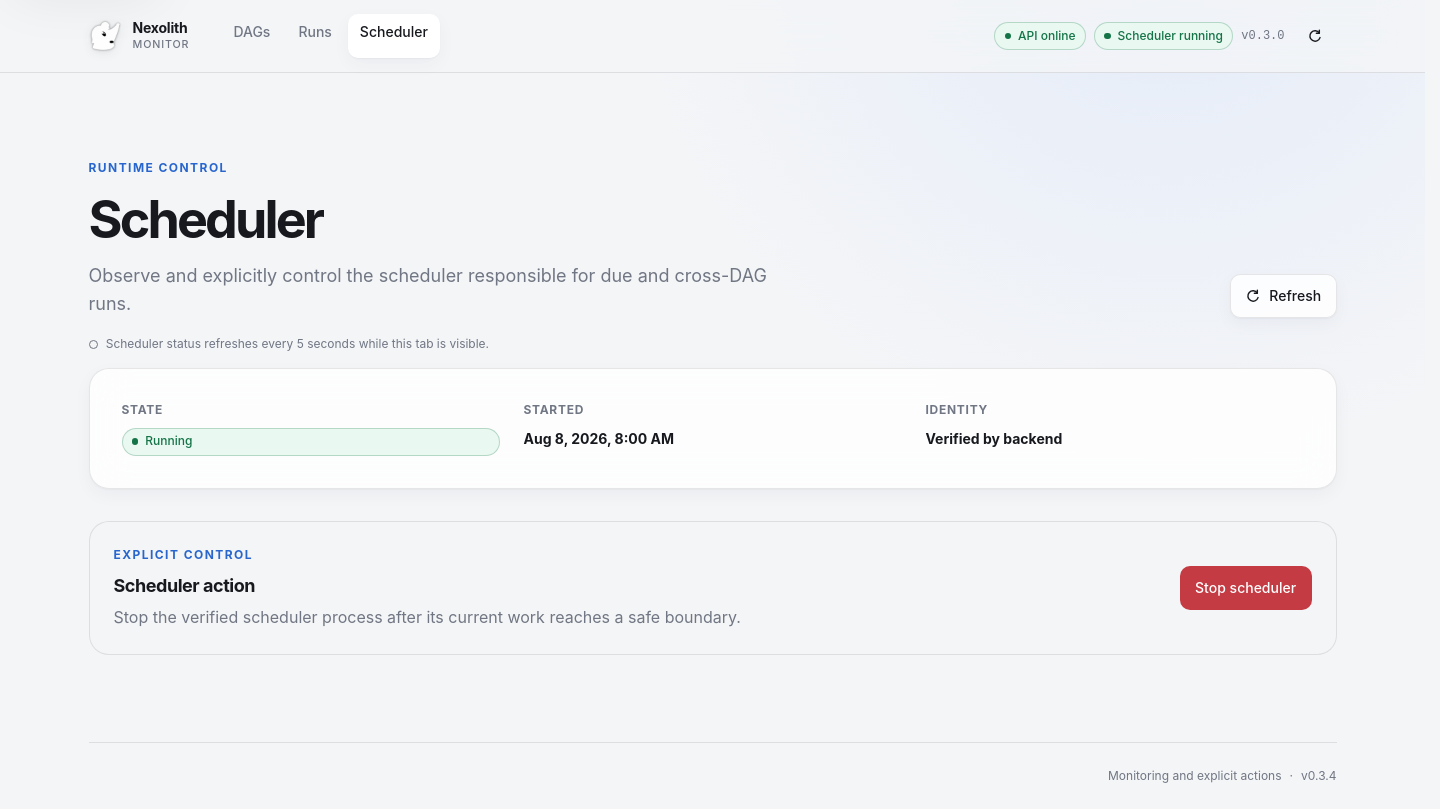
it: stops the scheduler only after confirmation and refreshes backend status
The image size is (1440, 809).
Step 1. Click the button "Stop scheduler" → point(1246, 588), box [1180,566,1312,610]
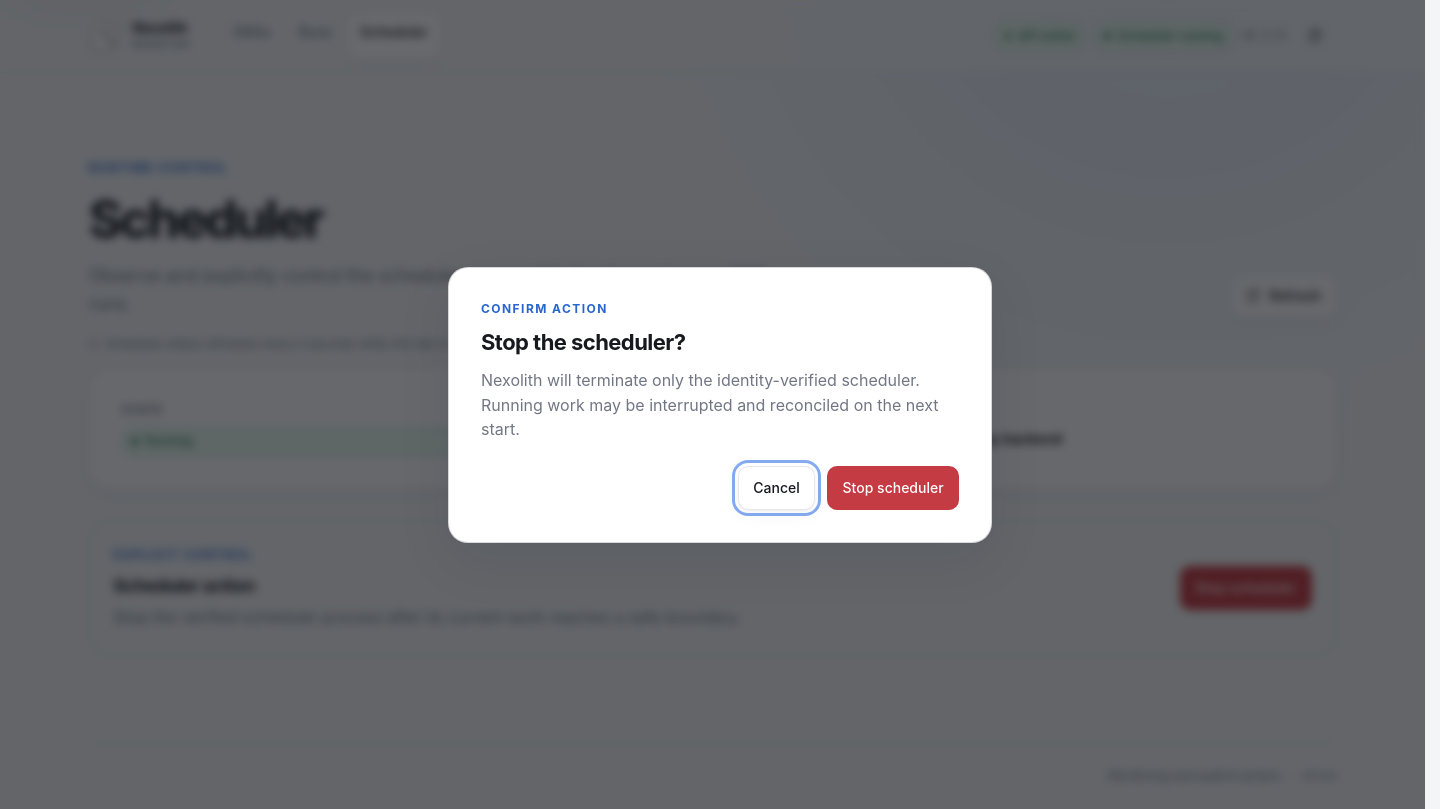
Step 2. Click the button "Cancel" → point(777, 488), box [738,466,815,510]
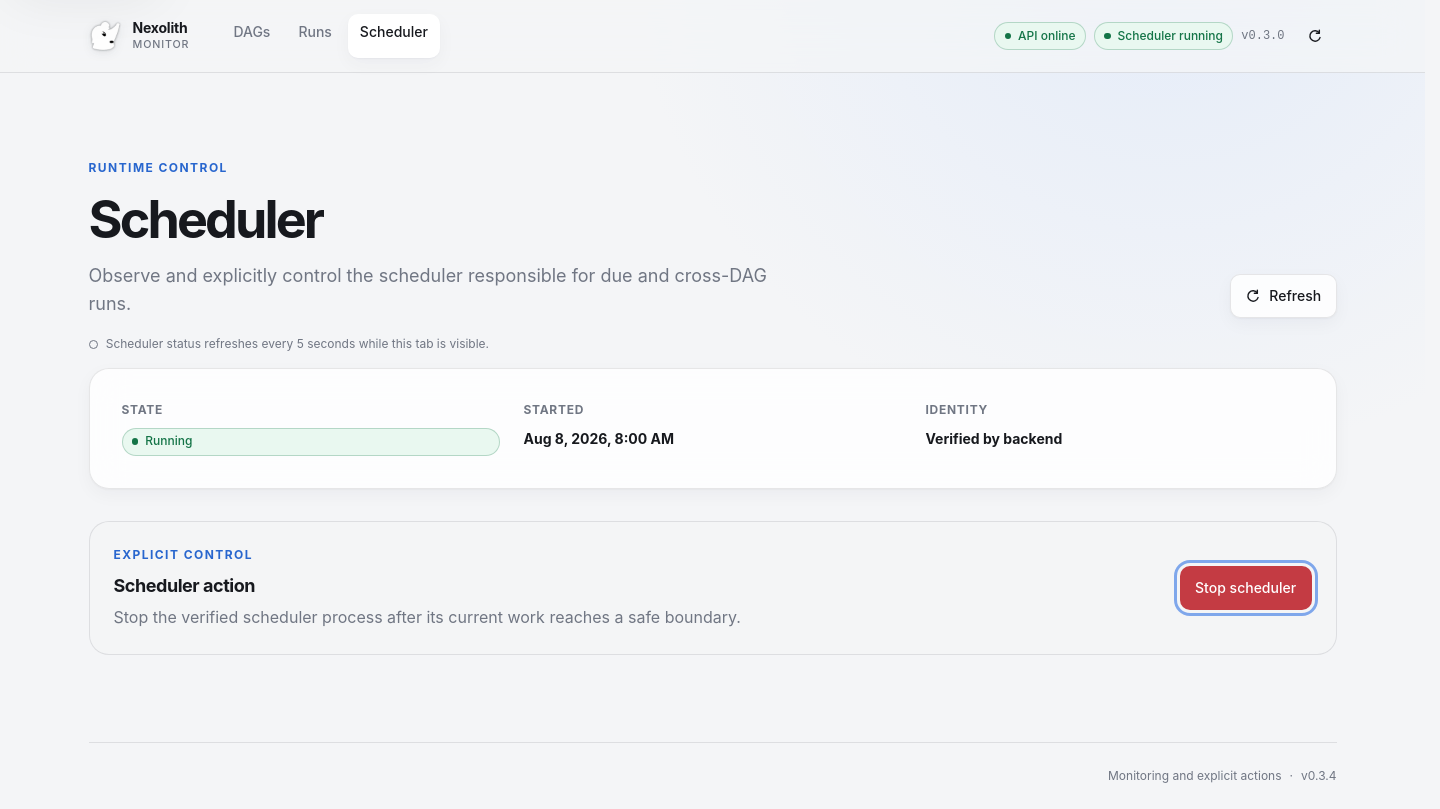
Step 3. Click the button "Stop scheduler" → point(1246, 588), box [1180,566,1312,610]
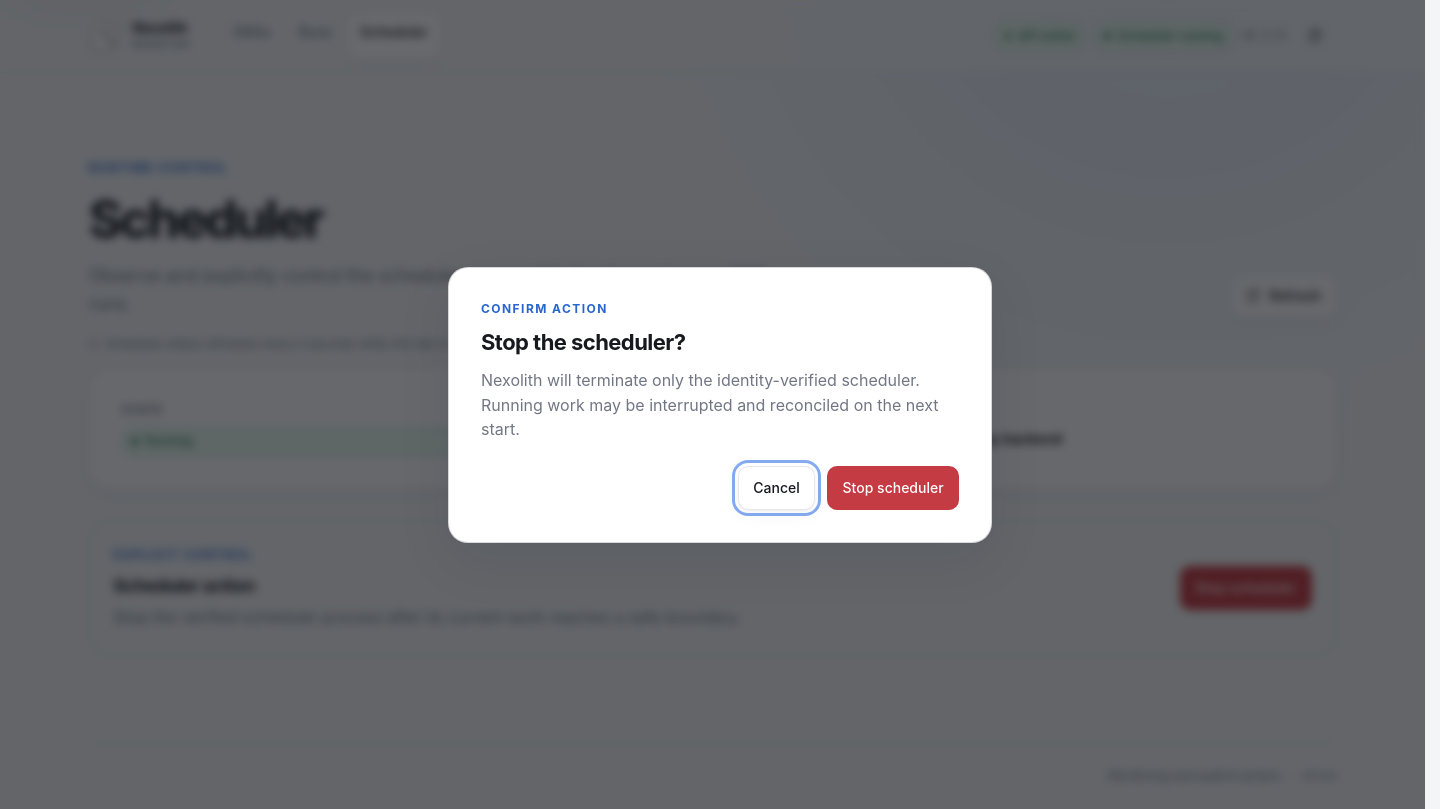
Step 4. Click the button "Stop scheduler" → point(893, 488), box [827,466,959,510]
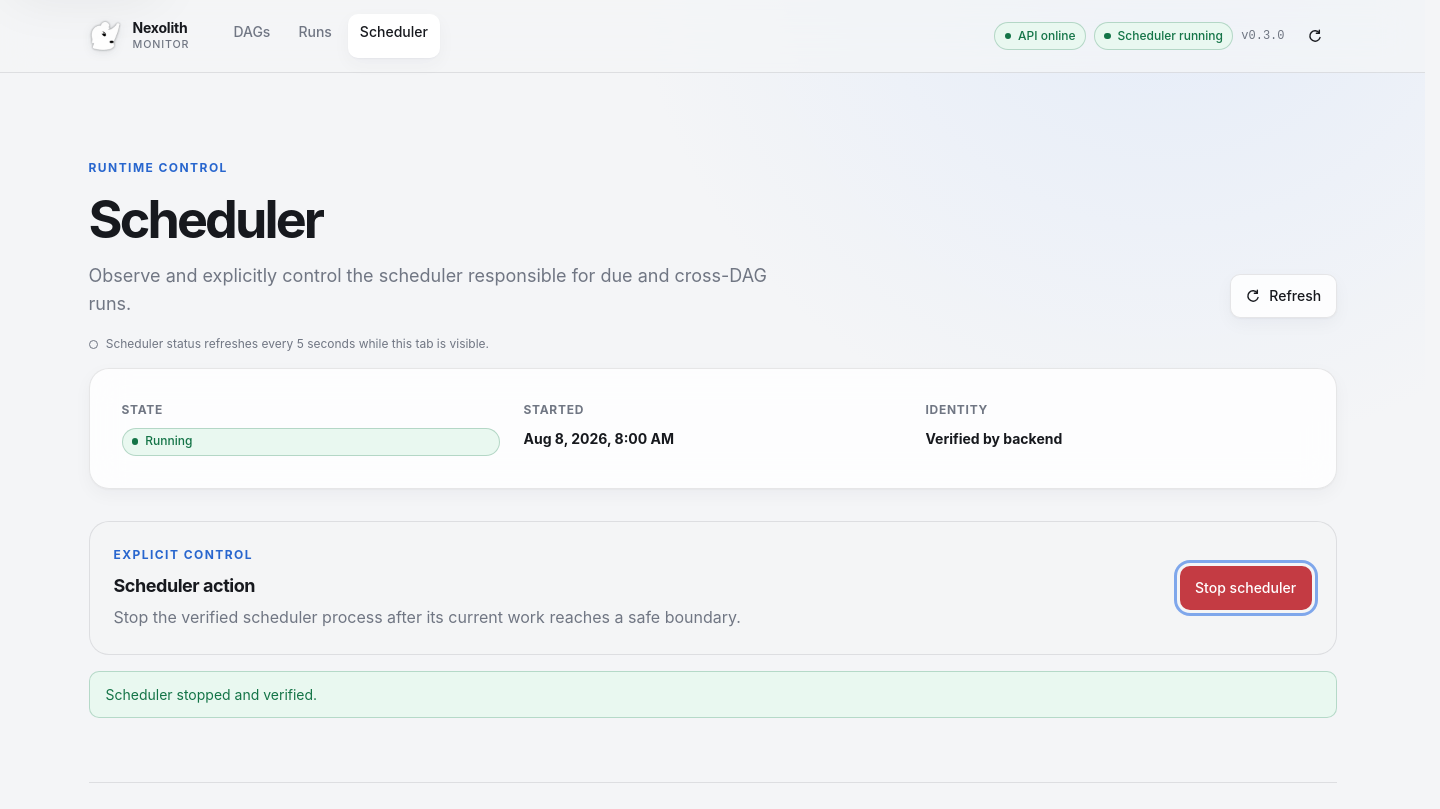
Result: the text "Scheduler stopped and verified." is shown at [88,671,1336,718]
